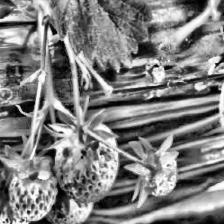Gray Mold: (209, 44, 224, 128)
